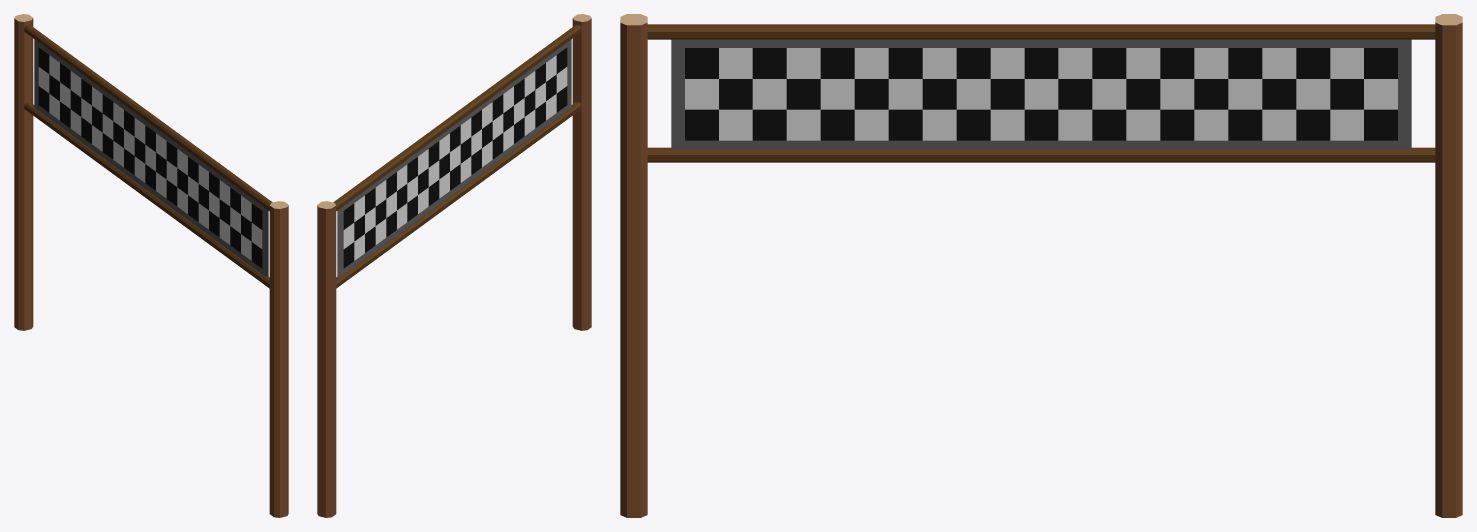
Rendered from Prop_Track_Banner_Finish_Line_Double_Checkered.obj.
The picture shows the model from 3 angles, left to right: view 1: azimuth 30°, elevation 25°; view 2: azimuth 150°, elevation 25°; view 3: azimuth 270°, elevation 25°; orthographic projection. The views are drawn at different scales.
Visible parts, largest first — view 1: Flag_Pole_Side, Flag_Black, Flag_White, Flag_Rail, Flag_Border; view 2: Flag_Pole_Side, Flag_Black, Flag_White, Flag_Rail, Flag_Border; view 3: Flag_Black, Flag_White, Flag_Pole_Side, Flag_Rail, Flag_Border.
Part boxes in pixels (bbox=[...]): Flag_Pole_Side: bbox=[14, 18, 288, 517]; Flag_Black: bbox=[38, 47, 262, 268]; Flag_White: bbox=[38, 55, 262, 260]; Flag_Rail: bbox=[24, 24, 272, 288]; Flag_Border: bbox=[34, 39, 268, 277]; Flag_Pole_Side: bbox=[317, 18, 591, 517]; Flag_Black: bbox=[343, 47, 567, 268]; Flag_White: bbox=[343, 55, 567, 260]; Flag_Rail: bbox=[333, 24, 581, 288]; Flag_Border: bbox=[337, 39, 571, 277]; Flag_Black: bbox=[685, 48, 1397, 140]; Flag_White: bbox=[685, 48, 1397, 140]; Flag_Pole_Side: bbox=[620, 22, 1462, 517]; Flag_Rail: bbox=[647, 24, 1435, 162]; Flag_Border: bbox=[671, 39, 1411, 149].
Size of the model in its own units: 0.1 by 2 by 3.1.
